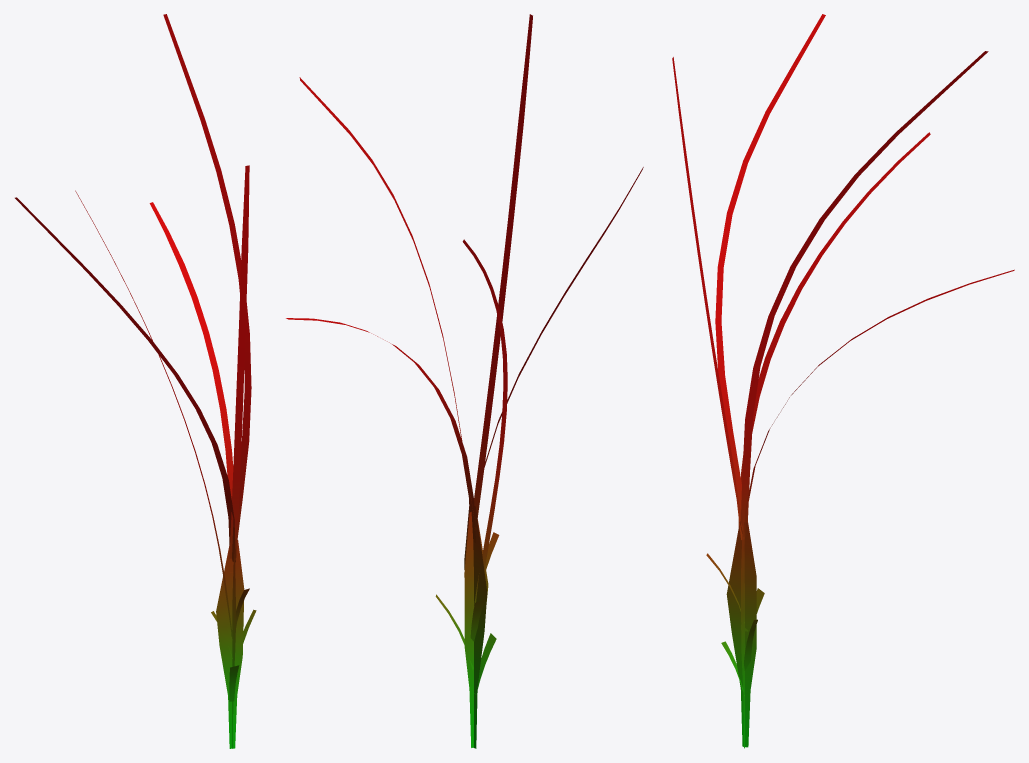
Rendered from Sea Wheatgrass_LOD0_Var6_ui2oagjia.fbx.
3 renders of one model, left to right at view 1: azimuth 30°, elevation 25°; view 2: azimuth 150°, elevation 25°; view 3: azimuth 270°, elevation 25°, orthographic. The views are drawn at different scales.
Parts seen in each view (by area): view 1: _9j7q_Var6_LOD0; view 2: _9j7q_Var6_LOD0; view 3: _9j7q_Var6_LOD0.
Boxes of the visible parts, x1,y1,x2,y2 form: _9j7q_Var6_LOD0: [15, 14, 256, 748]; _9j7q_Var6_LOD0: [286, 14, 643, 748]; _9j7q_Var6_LOD0: [672, 14, 1014, 748].
Bounding box in the file's own units: 22.31 × 61.51 × 26.54.
